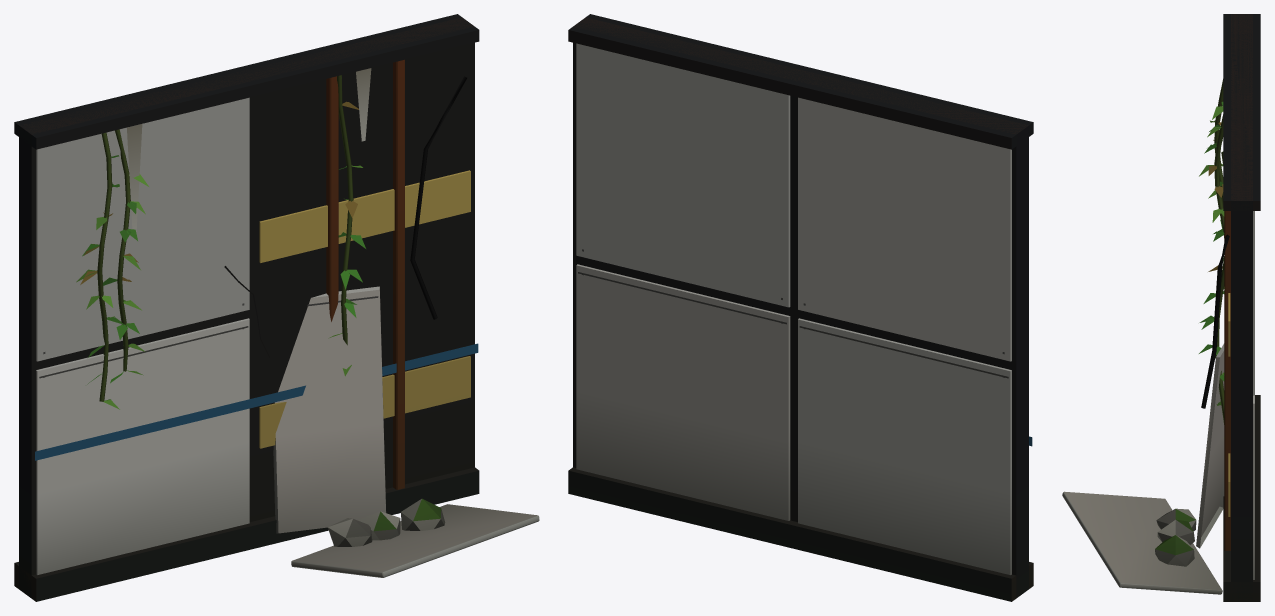
Rendered from kit_wall_damaged.glb.
3 views of the same model, side by side, from view 1: azimuth 30°, elevation 25°; view 2: azimuth 150°, elevation 25°; view 3: azimuth 270°, elevation 25° (orthographic). The views are drawn at different scales.
Visible parts, largest first — view 1: Mesh; view 2: Mesh; view 3: Mesh.
Boxes of the visible parts, box(x1,y1,x2,y2) form: Mesh: box(14, 14, 539, 601); Mesh: box(568, 14, 1033, 601); Mesh: box(1062, 14, 1260, 601).
Size of the model in its own units: 4 by 4.06 by 1.8.
